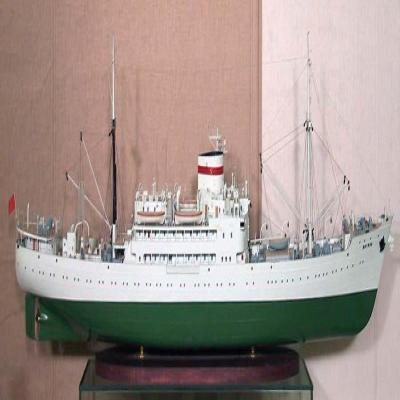other: (16, 130, 393, 400)
